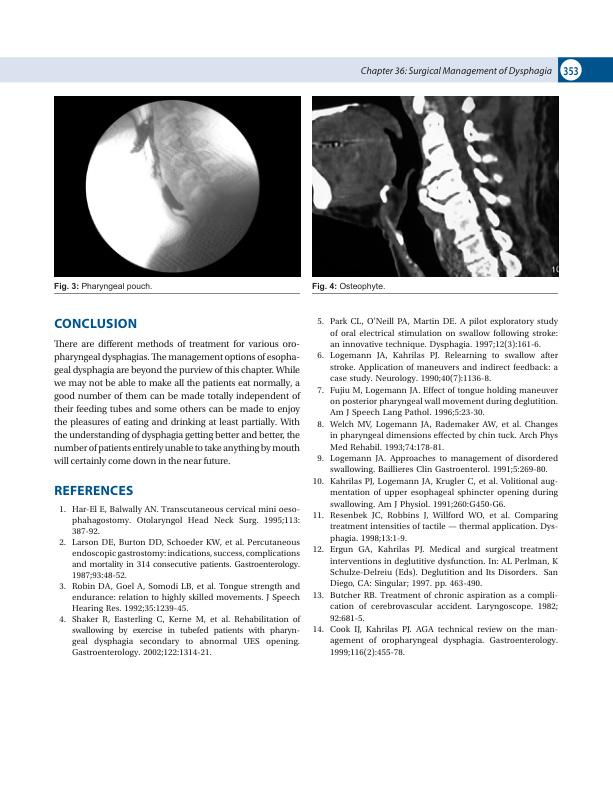caption: (53, 282, 153, 292), (311, 281, 386, 292)
header: (360, 66, 553, 77)
image: (311, 95, 560, 278), (53, 95, 301, 277)
list: (313, 316, 560, 659), (58, 504, 301, 658)
section-heading: (53, 317, 137, 330), (53, 484, 134, 497)
text: (53, 338, 301, 467)
